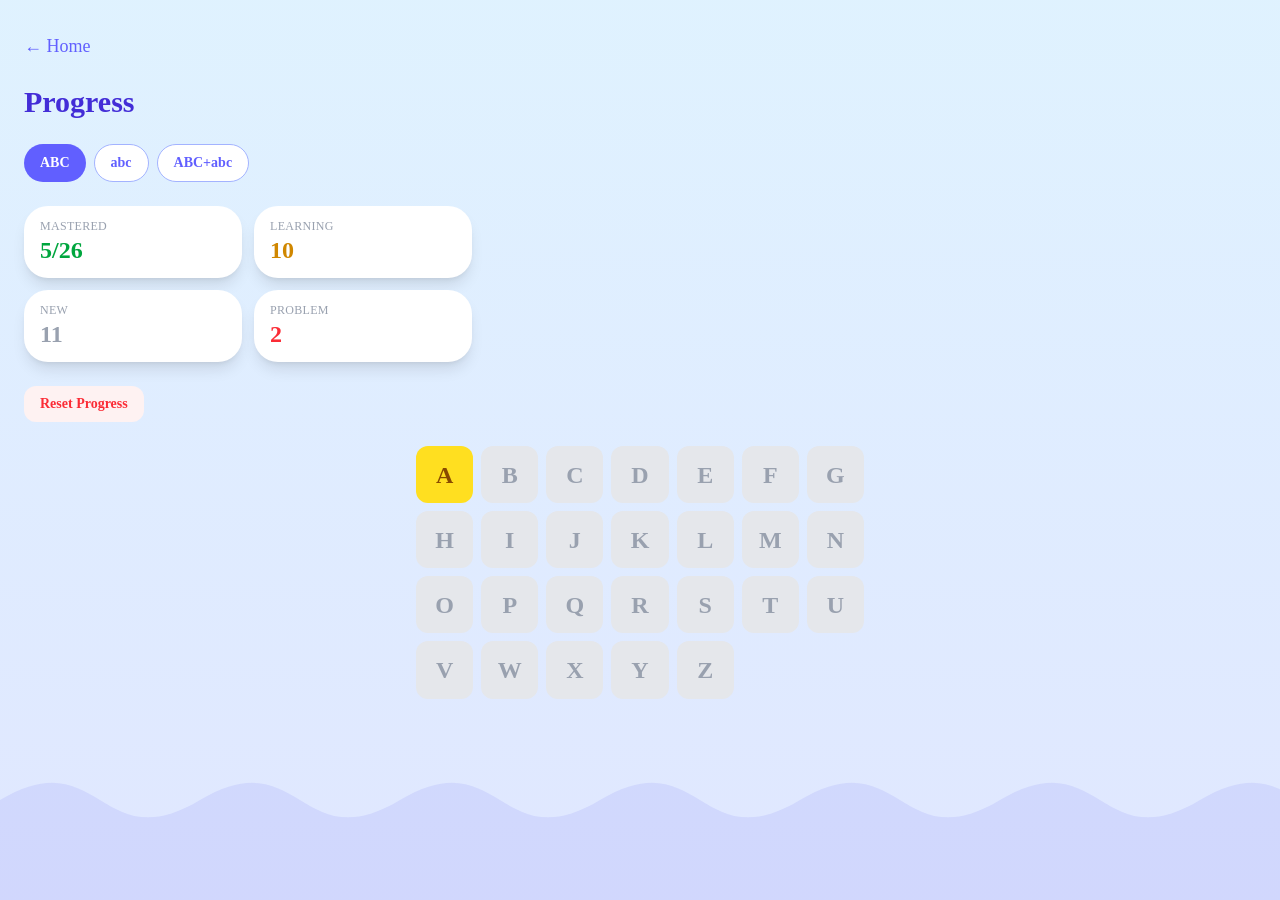
Progress › opens letter detail modal on tap
This screenshot has width=1280, height=900.
Click the button "A" at (445, 475), box [416,446,473,503]
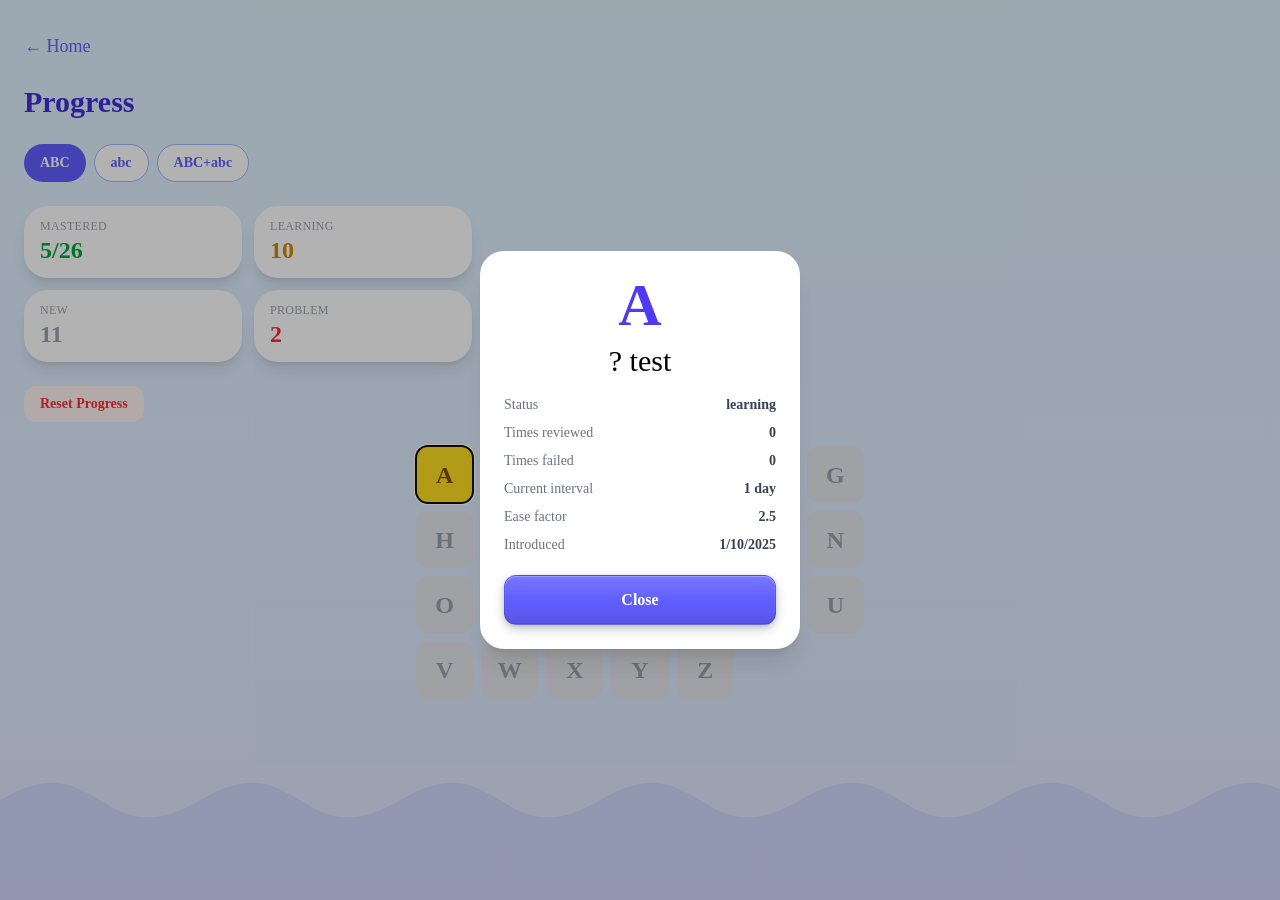
Expected: the text "Status" is shown, [504,395,538,415]
Expected: the button "Close" is shown, [504,575,776,625]
